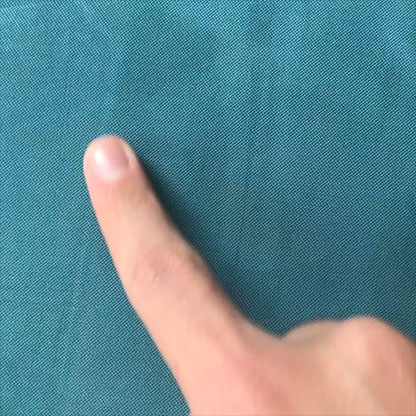fingertip: (75, 128, 142, 190)
